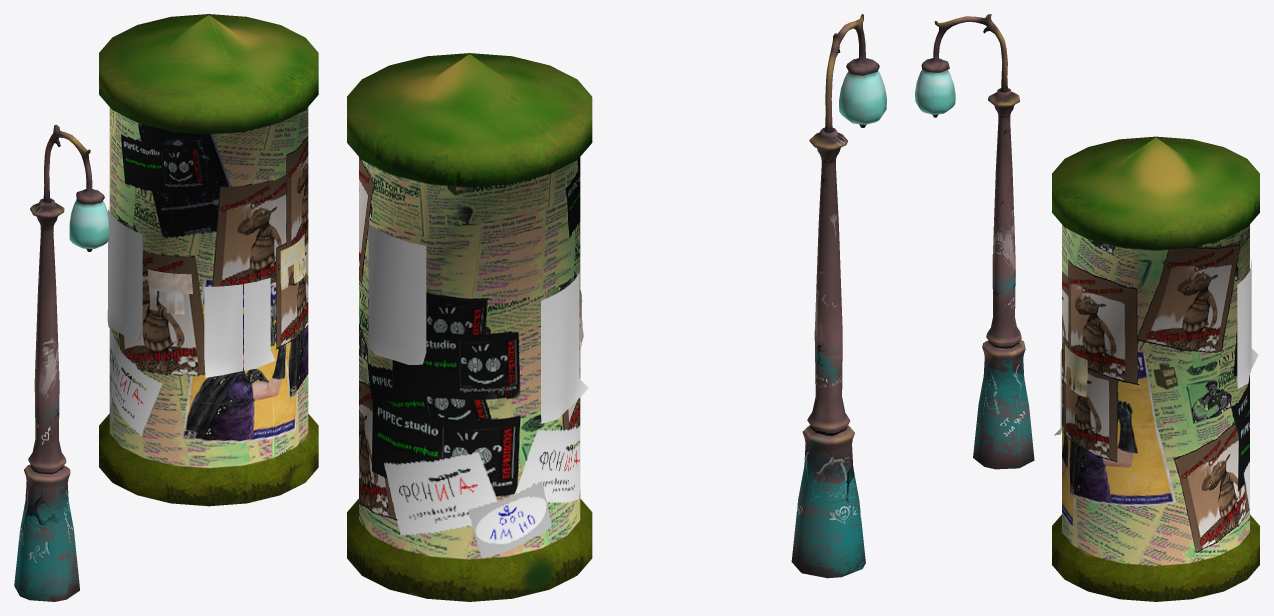
Rendered from furnitura_01.FBX.
The picture shows the model from 3 angles, left to right: view 1: azimuth 30°, elevation 25°; view 2: azimuth 150°, elevation 25°; view 3: azimuth 270°, elevation 25°; orthographic projection. The views are drawn at different scales.
Visible parts, largest first — view 1: StreetFurniture, Object008; view 2: StreetFurniture, Object008; view 3: StreetFurniture, Object008.
Part boxes in pixels (x1,y1,x2,y2): StreetFurniture: (99,14,318,506); Object008: (14,124,109,601); StreetFurniture: (347,53,592,601); Object008: (791,14,886,578); StreetFurniture: (1052,136,1259,601); Object008: (915,14,1034,469).
Bounding box in the file's own units: 17.27 × 21.05 × 14.85.
